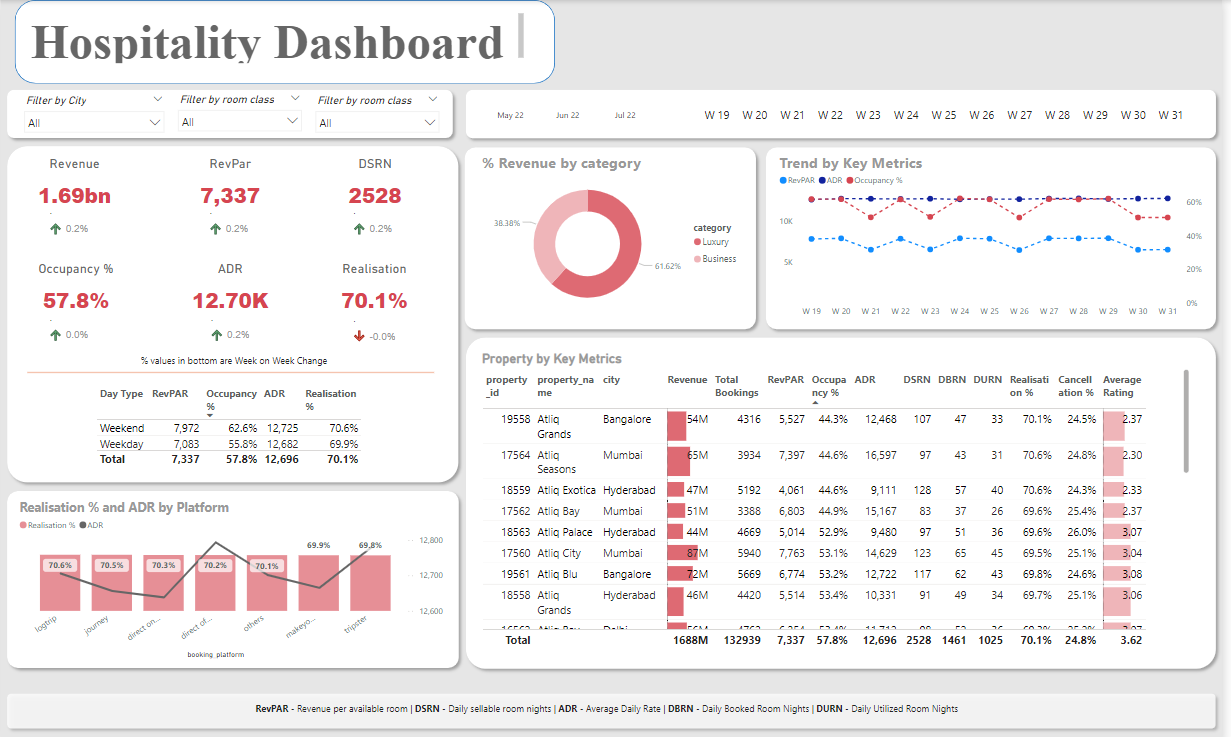

This screenshot's page, from the dashboard's own definition file:
{"tool":"powerbi","page":{"name":"Home","canvas":[1800,1100],"ordinal":0},"visuals":[{"type":"shape","box":[0.2,123.6,675.2,88.8],"z":0},{"type":"shape","box":[676,122.7,1124,89.3],"z":1000},{"type":"shape","box":[676,488,1124,506.7],"z":2000},{"type":"shape","box":[675.1,208.6,447.6,286.1],"z":3000},{"type":"shape","box":[1118.6,208.6,681.7,286.1],"z":4000},{"type":"shape","box":[0.2,207,683.4,513.9],"z":5000},{"type":"slicer","fields":{"Values":["dim_rooms.room_class"]},"box":[250.7,133.3,202.7,72],"z":6000},{"type":"slicer","fields":{"Values":["dim_hotels.city"]},"box":[24,134.7,226.7,76],"z":7000},{"type":"slicer","fields":{"Values":["dim_date.mmm yy"]},"box":[683.6,145.5,302.1,47.8],"z":8000},{"type":"card","title":"Revenue","fields":{"Values":["key_measures.Revenue"]},"box":[30.7,230.7,154.7,95.8],"z":8000,"group":"g2"},{"type":"card","title":"RevPar","fields":{"Values":["key_measures.Rev Par"]},"box":[257.9,230.7,160.2,95.8],"z":9000,"group":"g2"},{"type":"card","title":"Occupancy %","fields":{"Values":["key_measures.Occupancy %"]},"box":[14.7,386.3,192,96],"z":9000,"group":"g1"},{"type":"tableEx","title":"Property by Key Metrics","fields":{"Values":["dim_hotels.property_id","dim_hotels.property_name","dim_hotels.city","key_measures.Revenue","key_measures.Total Bookings","key_measures.Rev Par","key_measures.Occupancy %","key_measures.ADR","key_measures.DSRN","key_measures.DBRN","key_measures.DURN","key_measures.Realisation %"]},"box":[704,517.3,1053.3,445.3],"z":9000},{"type":"lineChart","title":"Trend by Key Metrics","fields":{"Category":["dim_date.mmm yy.Variation.Date Hierarchy.Month","dim_date.week no"],"Y2":["key_measures.Occupancy %"],"Y":["key_measures.Rev Par","key_measures.ADR"]},"box":[1142.7,225.3,633.3,252],"z":10000},{"type":"card","title":"DSRN","fields":{"Values":["key_measures.DSRN"]},"box":[456.5,231.1,189.3,96],"z":11000,"group":"g2"},{"type":"tableEx","fields":{"Values":["dim_date.day type","key_measures.Rev Par","key_measures.Occupancy %","key_measures.ADR","key_measures.Realisation %"]},"box":[135.1,564.9,437.2,129.8],"z":11000},{"type":"card","title":"ADR","fields":{"Values":["key_measures.ADR"]},"box":[241.4,385.9,193.3,96],"z":12000,"group":"g1"},{"type":"shape","box":[0,716,684,278.7],"z":12000},{"type":"card","title":"Realisation","fields":{"Values":["key_measures.Realisation %"]},"box":[452.5,386.8,194.7,96],"z":13000,"group":"g1"},{"type":"lineStackedColumnComboChart","title":"Realisation % and ADR by Platform","fields":{"Category":["fact_bookings.booking_platform"],"Y":["key_measures.Realisation %"],"Y2":["key_measures.ADR"]},"box":[21.3,736,634.7,241.3],"z":13000},{"type":"slicer","fields":{"Values":["dim_date.week no"]},"box":[1002.7,145.3,773.3,48],"z":14000},{"type":"shape","box":[0,1013.3,1800,69.3],"z":15000},{"type":"group","id":"g1","title":"Group 1","box":[14.7,385.9,632.4,96.9],"z":16000},{"type":"slicer","fields":{"Values":["dim_rooms.room_class"]},"box":[453.3,134.7,202.7,72],"z":19000},{"type":"group","id":"g2","title":"Group 2","box":[30.7,230.7,615.1,96.4],"z":20000},{"type":"tableEx","fields":{"Values":["key_measures.Revpar WoW change %"]},"box":[296,297.3,92,58.7],"z":21000},{"type":"textbox","box":[345,1029.6,1093.6,39],"z":22000},{"type":"shape","box":[38.7,542.7,600,14.7],"z":23000},{"type":"tableEx","fields":{"Values":["key_measures.Revpar WoW change %"]},"box":[61.3,297.3,92,58.7],"z":24000},{"type":"tableEx","fields":{"Values":["key_measures.Revpar WoW change %"]},"box":[509.3,297.3,92,58.7],"z":25000},{"type":"donutChart","title":"% Revenue by category","fields":{"Category":["dim_hotels.category"],"Y":["key_measures.Revenue"]},"box":[704,225.3,396,248],"z":26000},{"type":"group","id":"g3","title":"Group 3","box":[61.3,454.3,540,60],"z":27000},{"type":"tableEx","fields":{"Values":["key_measures.Occupancy WoW change %"]},"box":[61.3,454.3,92,58.7],"z":27000,"group":"g3"},{"type":"tableEx","fields":{"Values":["key_measures.ADR WoW change %"]},"box":[298.6,454.3,92,58.7],"z":28000,"group":"g3"},{"type":"textbox","box":[200,517.3,308,33.3],"z":28000},{"type":"shape","box":[20,0,796.7,123.3],"z":28002},{"type":"textbox","box":[38.3,15,736.7,83.3],"z":28003},{"type":"tableEx","fields":{"Values":["key_measures.Realisation WoW change %"]},"box":[509.3,455.6,92,58.7],"z":29000,"group":"g3"}]}

Visuals, with their boxes in screenshot pixels (x1, y1, x2, y2), scaled from the page's 1800x1100 canvas onto the 1231x737 screenshot:
shape: left=0, top=83, right=462, bottom=142
shape: left=462, top=82, right=1230, bottom=142
shape: left=462, top=327, right=1230, bottom=666
shape: left=462, top=140, right=768, bottom=331
shape: left=765, top=140, right=1230, bottom=331
shape: left=0, top=139, right=468, bottom=483
slicer - dim_rooms.room_class: left=171, top=89, right=310, bottom=138
slicer - dim_hotels.city: left=16, top=90, right=171, bottom=141
slicer - dim_date.mmm yy: left=468, top=97, right=674, bottom=130
"Revenue" card: left=21, top=155, right=127, bottom=219
"RevPar" card: left=176, top=155, right=286, bottom=219
"Occupancy %" card: left=10, top=259, right=141, bottom=323
"Property by Key Metrics" tableEx: left=481, top=347, right=1202, bottom=645
"Trend by Key Metrics" lineChart: left=781, top=151, right=1215, bottom=320
"DSRN" card: left=312, top=155, right=442, bottom=219
tableEx - dim_date.day type x key_measures.Rev Par: left=92, top=378, right=391, bottom=465
"ADR" card: left=165, top=259, right=297, bottom=323
shape: left=0, top=480, right=468, bottom=666
"Realisation" card: left=309, top=259, right=443, bottom=323
"Realisation % and ADR by Platform" lineStackedColumnComboChart: left=15, top=493, right=449, bottom=655
slicer - dim_date.week no: left=686, top=97, right=1215, bottom=130
shape: left=0, top=679, right=1230, bottom=725
"Group 1" group: left=10, top=259, right=443, bottom=323
slicer - dim_rooms.room_class: left=310, top=90, right=449, bottom=138
"Group 2" group: left=21, top=155, right=442, bottom=219
tableEx - key_measures.Revpar WoW change %: left=202, top=199, right=265, bottom=239
textbox: left=236, top=690, right=984, bottom=716
shape: left=26, top=364, right=437, bottom=373
tableEx - key_measures.Revpar WoW change %: left=42, top=199, right=105, bottom=239
tableEx - key_measures.Revpar WoW change %: left=348, top=199, right=411, bottom=239
"% Revenue by category" donutChart: left=481, top=151, right=752, bottom=317
"Group 3" group: left=42, top=304, right=411, bottom=345
tableEx - key_measures.Occupancy WoW change %: left=42, top=304, right=105, bottom=344
tableEx - key_measures.ADR WoW change %: left=204, top=304, right=267, bottom=344
textbox: left=137, top=347, right=347, bottom=369
shape: left=14, top=0, right=559, bottom=83
textbox: left=26, top=10, right=530, bottom=66
tableEx - key_measures.Realisation WoW change %: left=348, top=305, right=411, bottom=345
